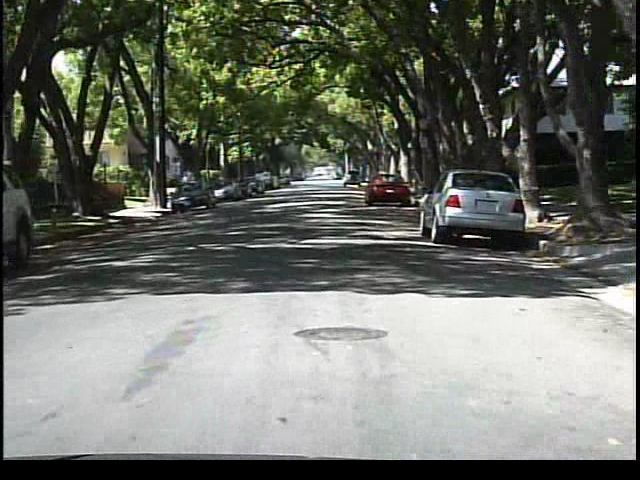person: (178, 172, 196, 205)
